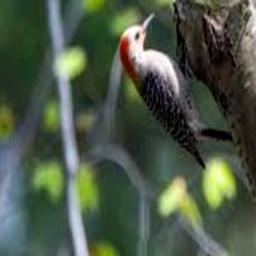Woodpecker: (120, 9, 234, 168)
